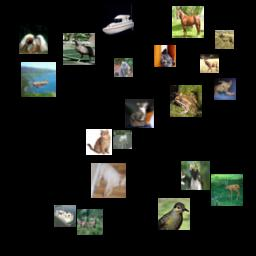airplane: (21, 62, 56, 97)
bird: (158, 198, 190, 230), (63, 33, 95, 65)
cat: (125, 99, 154, 128), (181, 161, 210, 190), (86, 129, 112, 155), (154, 45, 176, 67), (114, 58, 133, 77)
deer: (211, 174, 243, 206), (77, 209, 103, 235), (215, 30, 234, 49), (200, 54, 219, 73)
dog: (91, 163, 126, 198), (19, 25, 48, 54), (214, 78, 236, 100), (113, 130, 132, 149)
frog: (170, 85, 202, 117)
ship: (102, 3, 134, 35), (54, 205, 76, 227)
